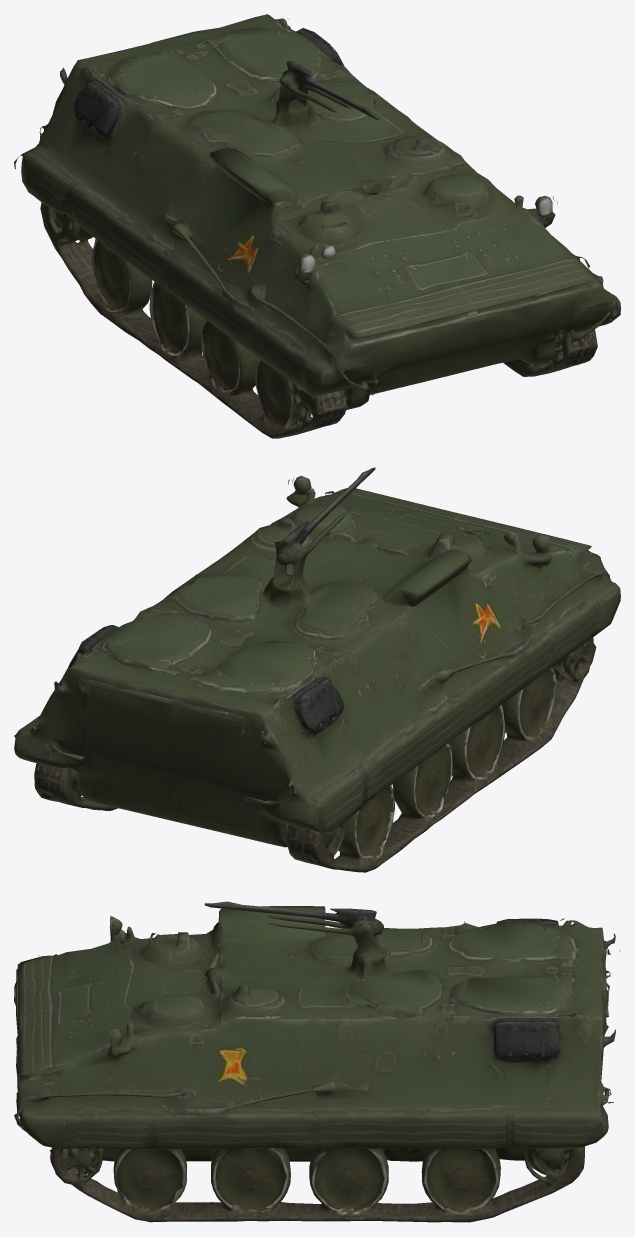
File: xe-boc-thep-k63.glb
3 views of the same model, one above another, from view 1: azimuth 30°, elevation 25°; view 2: azimuth 150°, elevation 25°; view 3: azimuth 270°, elevation 25° (orthographic). The views are drawn at different scales.
Visible parts, largest first — view 1: xe-boc-thep-k63; view 2: xe-boc-thep-k63; view 3: xe-boc-thep-k63.
Part boxes in pixels (x1,y1,x2,y2): xe-boc-thep-k63: [14, 14, 620, 438]; xe-boc-thep-k63: [14, 467, 620, 872]; xe-boc-thep-k63: [14, 901, 620, 1222].
Bounding box in the file's own units: 3.08 × 2.55 × 5.47.
1 material, 1 textured.
